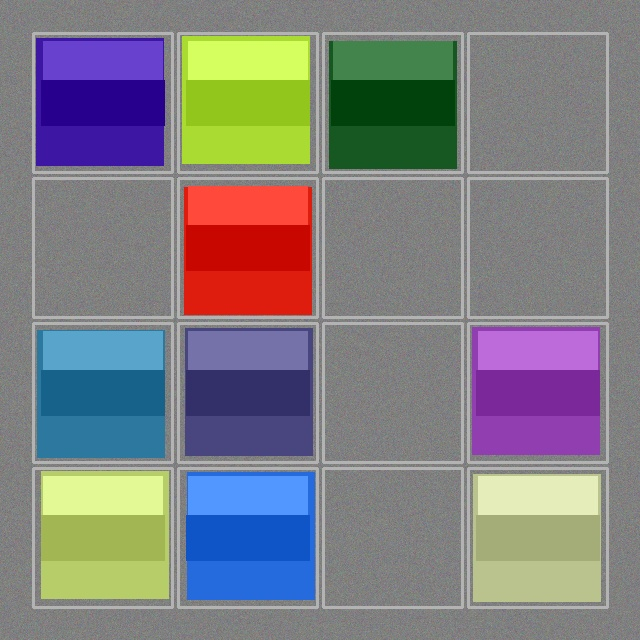space-empty: (470, 35, 605, 170), (35, 180, 170, 315), (325, 180, 460, 315), (470, 180, 605, 315), (325, 325, 460, 460), (325, 470, 460, 605)
space-occupied: (35, 35, 170, 170), (180, 35, 315, 170), (325, 35, 460, 170), (180, 180, 315, 315), (35, 325, 170, 460), (180, 325, 315, 460), (470, 325, 605, 460), (35, 470, 170, 605), (180, 470, 315, 605), (470, 470, 605, 605)
